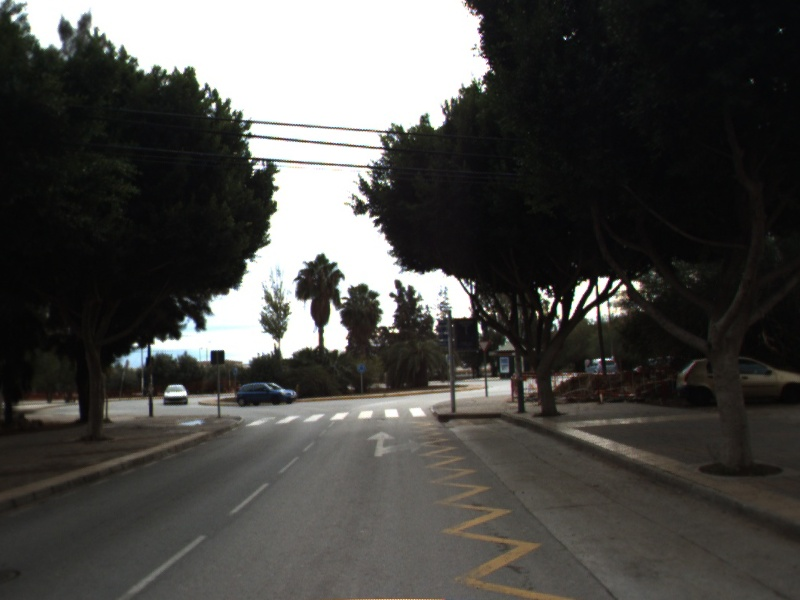STRAIGHT_RIGHT: (364, 429, 425, 459)
